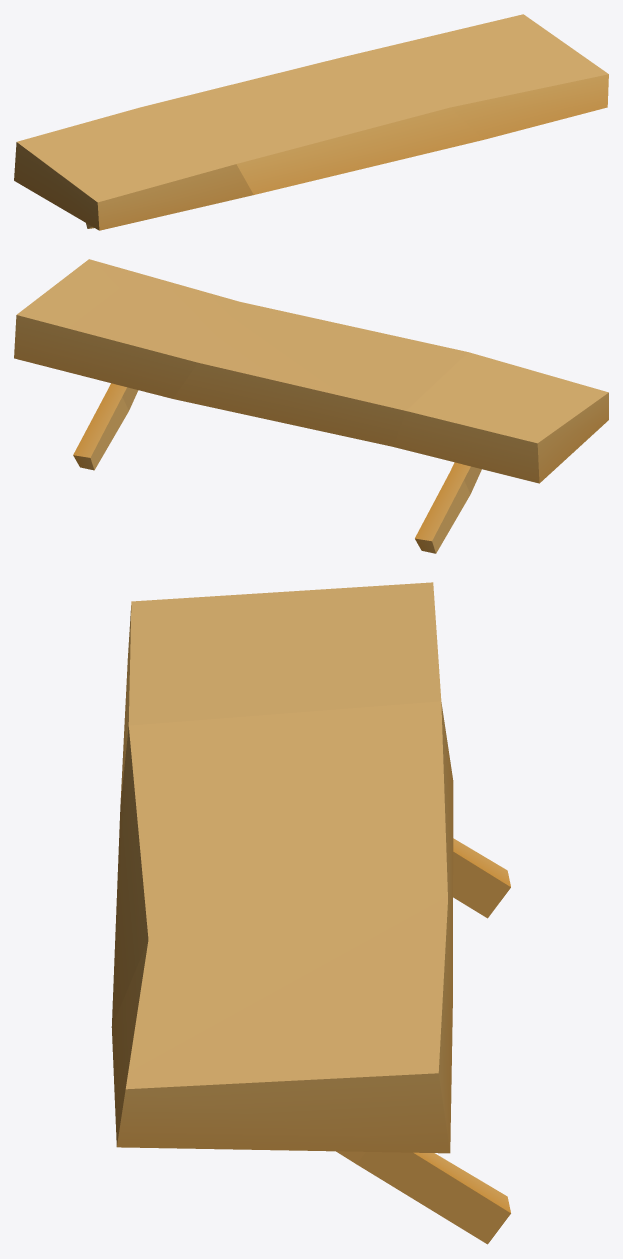
The model's file is DekorasiKayu.fbx.
The picture shows the model from 3 angles, top to bottom: view 1: azimuth 30°, elevation 25°; view 2: azimuth 150°, elevation 25°; view 3: azimuth 270°, elevation 25°; orthographic projection. The views are drawn at different scales.
Visible parts, largest first — view 1: Shelf; view 2: Shelf; view 3: Shelf.
Boxes of the visible parts, <box> form: Shelf: <box>14,14,608,230</box>; Shelf: <box>14,259,608,553</box>; Shelf: <box>111,582,510,1244</box>.
Bounding box in the file's own units: 98.43 × 22.17 × 32.88.
